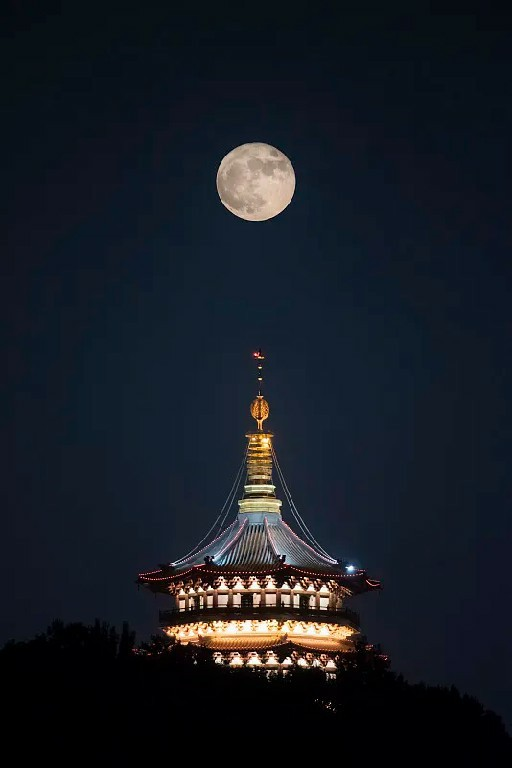Leifeng: (131, 345, 390, 690)
